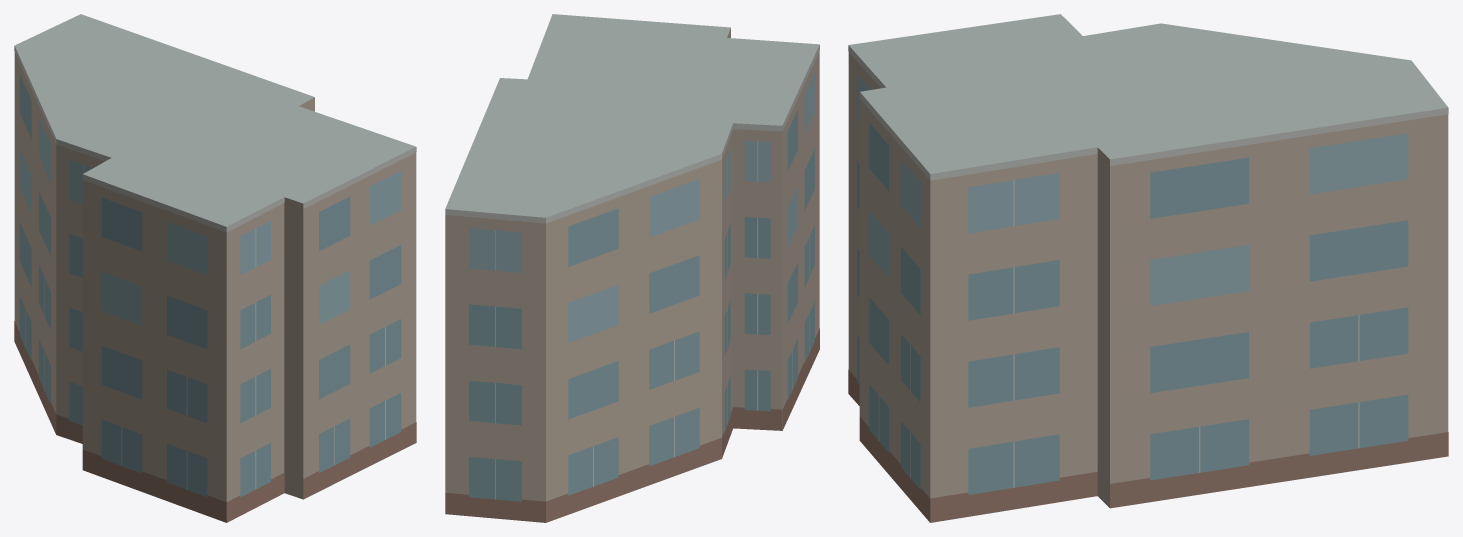
Rendered from survey-upis-32708239.glb.
The picture shows the model from 3 angles, left to right: view 1: azimuth 30°, elevation 25°; view 2: azimuth 150°, elevation 25°; view 3: azimuth 270°, elevation 25°; orthographic projection. The views are drawn at different scales.
Parts seen in each view (by area): view 1: survey-upis-32708239.tmp; view 2: survey-upis-32708239.tmp; view 3: survey-upis-32708239.tmp.
Part boxes in pixels (box(x1,y1,x2,y2)): survey-upis-32708239.tmp: box(14, 14, 416, 522); survey-upis-32708239.tmp: box(445, 14, 819, 522); survey-upis-32708239.tmp: box(848, 14, 1448, 522).
Size of the model in its own units: 12.61 by 12.8 by 19.97.
